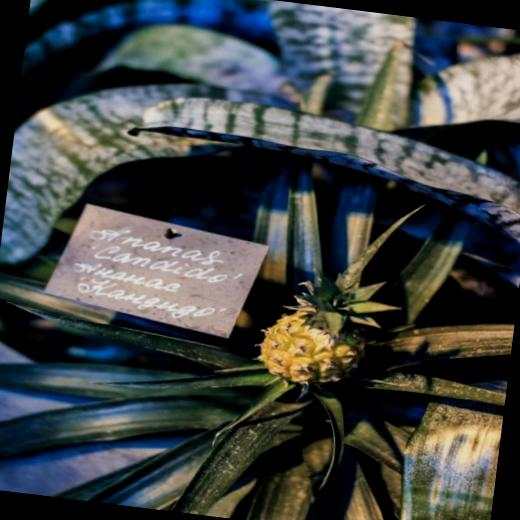Mango: (247, 261, 409, 402)
